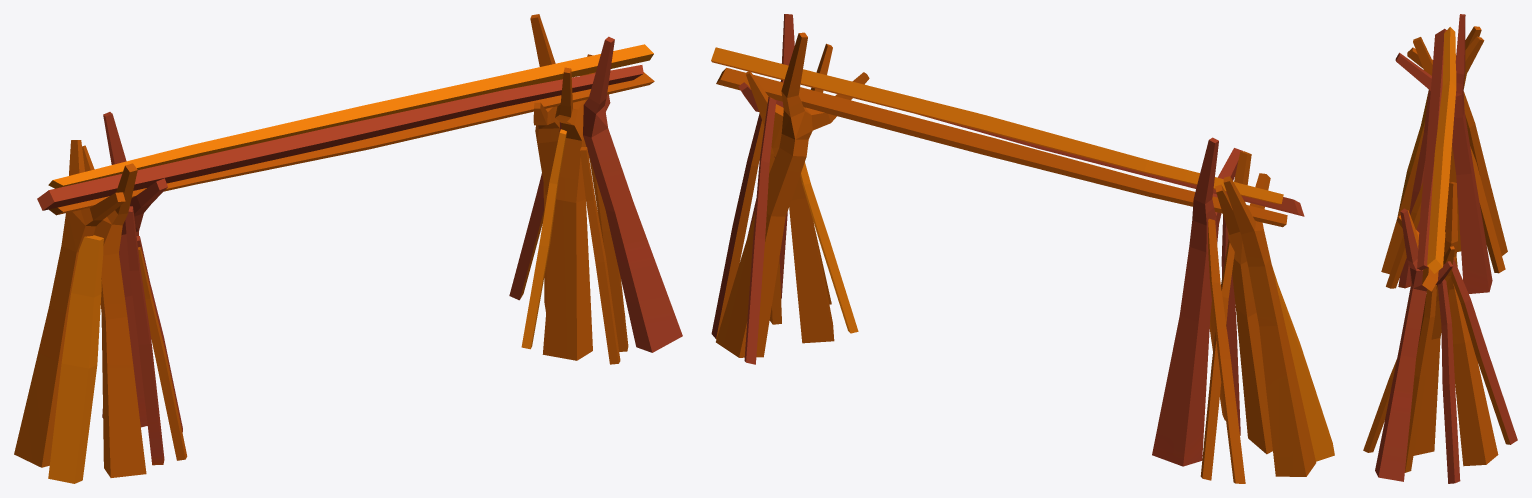
File: Wall Trunk-Arc.fbx
3 renders of one model, left to right at view 1: azimuth 30°, elevation 25°; view 2: azimuth 150°, elevation 25°; view 3: azimuth 270°, elevation 25°, orthographic. The views are drawn at different scales.
Visible parts, largest first — view 1: ArC_Trunk; view 2: ArC_Trunk; view 3: ArC_Trunk.
Part boxes in pixels (x1=…): ArC_Trunk: x1=14, y1=14, x2=682, y2=483; ArC_Trunk: x1=711, y1=14, x2=1334, y2=483; ArC_Trunk: x1=1363, y1=14, x2=1517, y2=483.
Bounding box in the file's own units: 1109 × 565 × 295.
